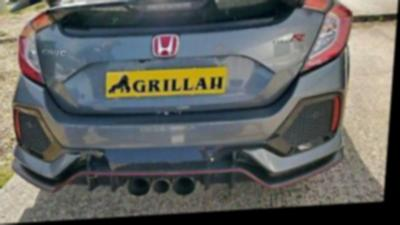License_Plate: (100, 59, 234, 106)
